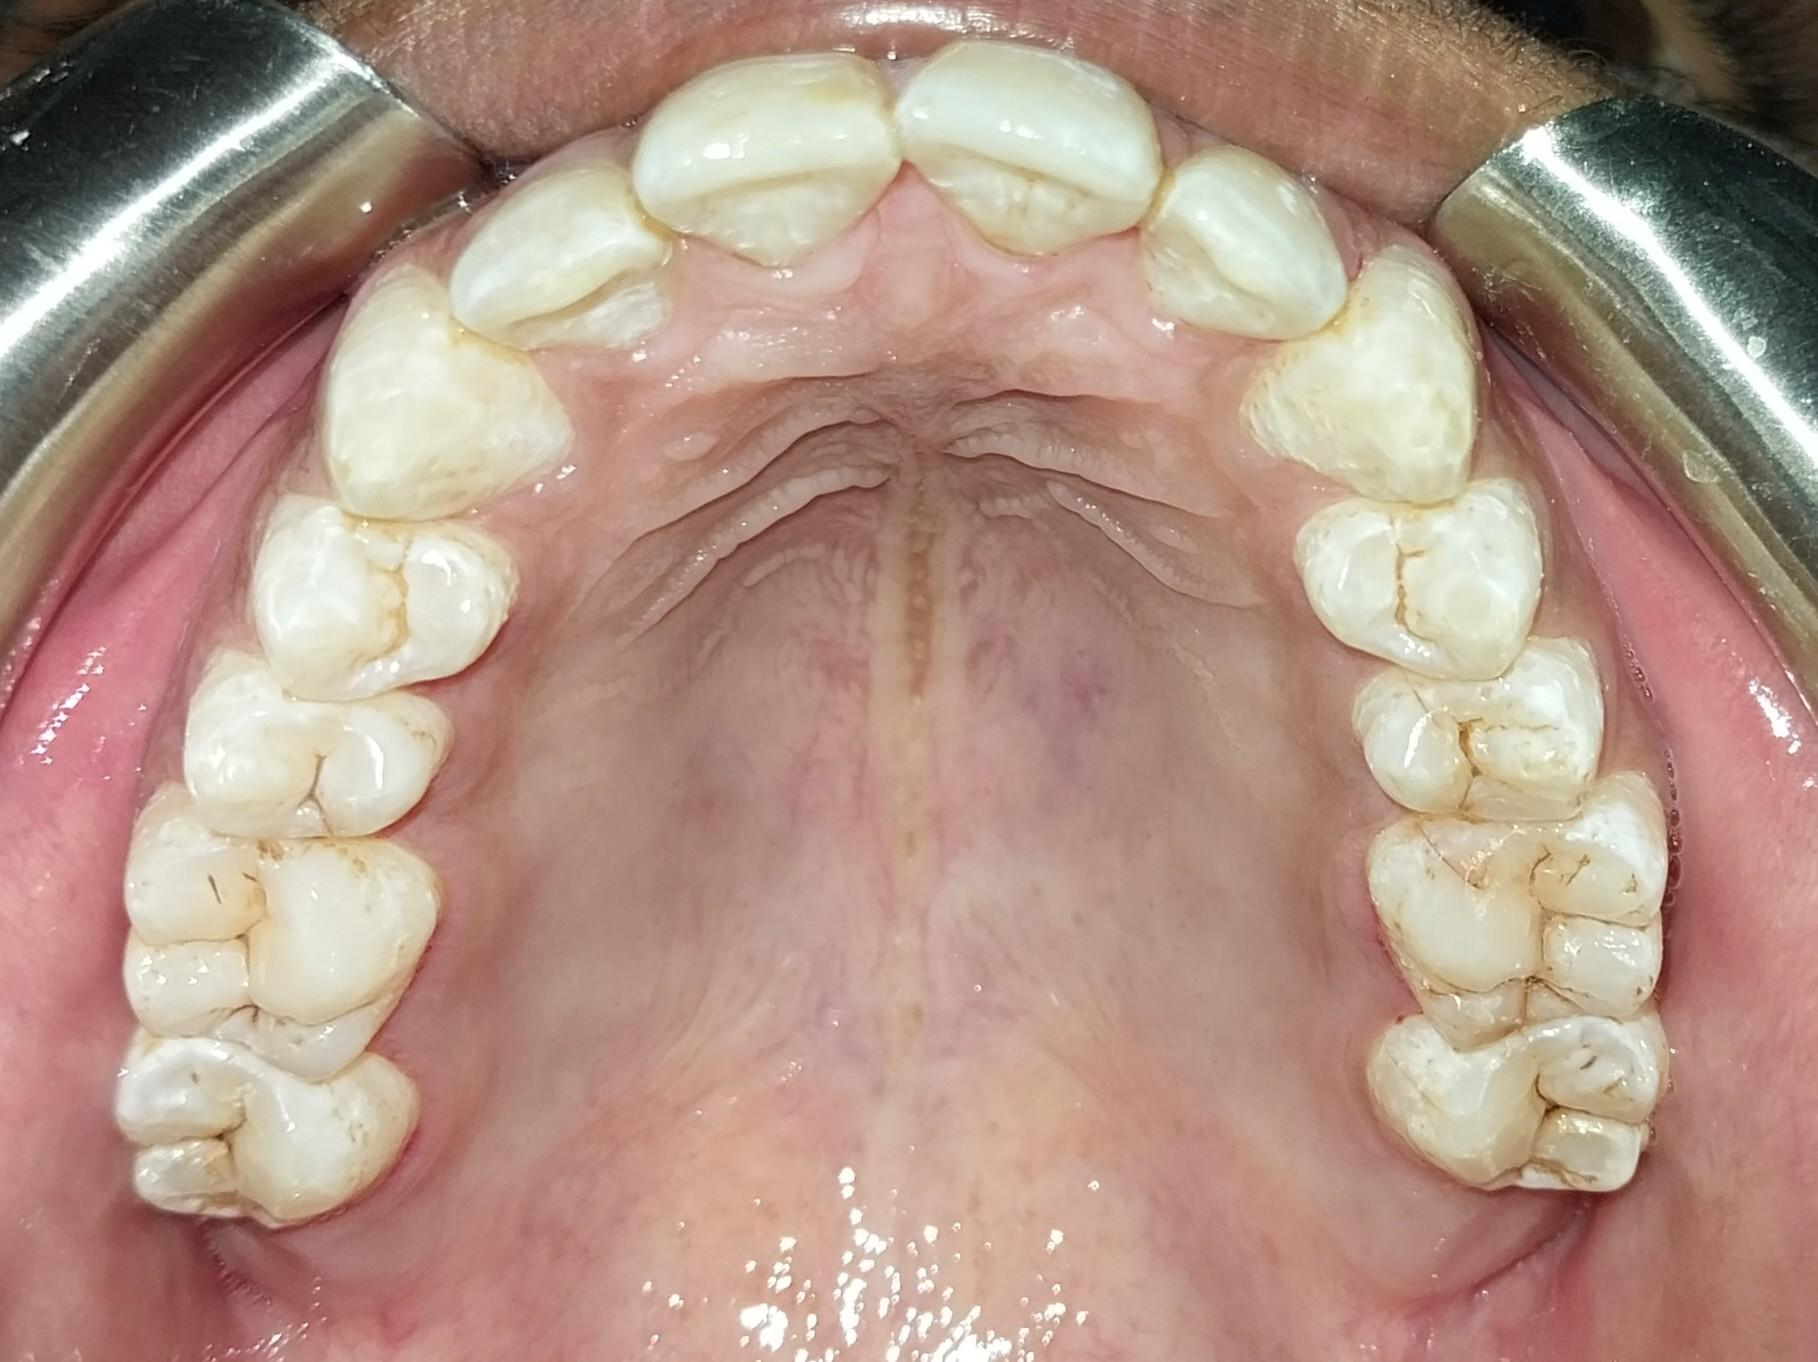D: (118, 813, 429, 1085), (1374, 809, 1668, 1046), (118, 1040, 398, 1223), (1376, 1020, 1665, 1193), (177, 659, 443, 835), (1362, 657, 1601, 823)
